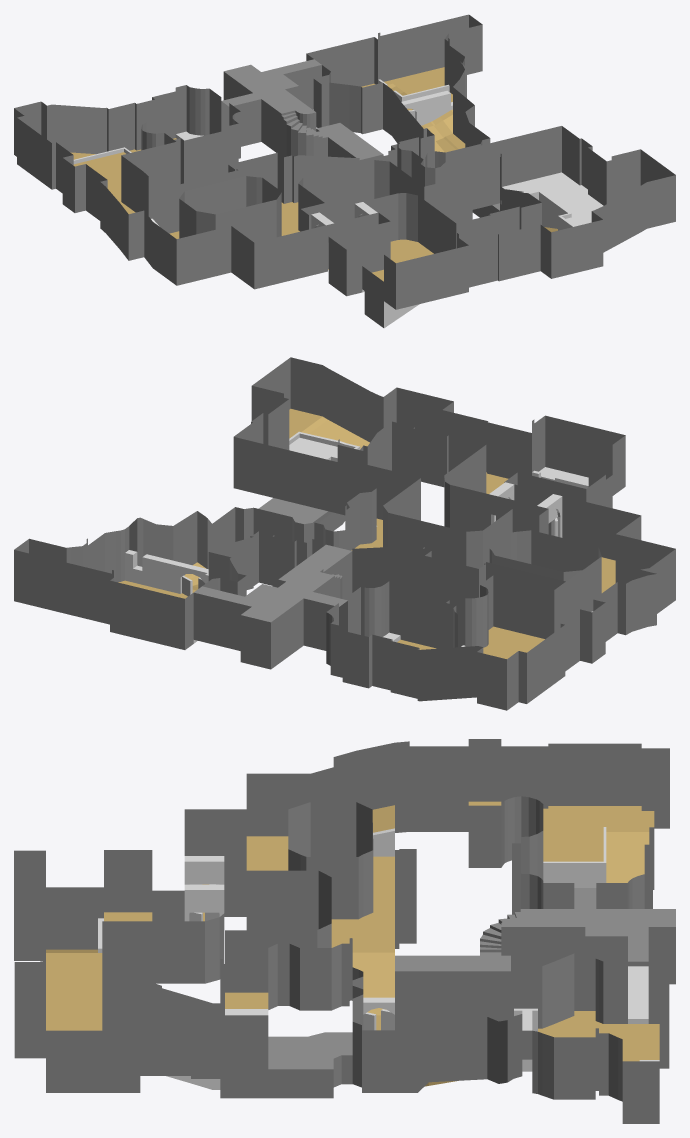
The model's file is Map1.fbx.
3 renders of one model, top to bottom at view 1: azimuth 30°, elevation 25°; view 2: azimuth 150°, elevation 25°; view 3: azimuth 270°, elevation 25°, orthographic. The views are drawn at different scales.
Parts seen in each view (by area): view 1: Plane.001; view 2: Plane.001; view 3: Plane.001.
Boxes of the visible parts, x1,y1,x2,y2 form: Plane.001: (14,14,675,328); Plane.001: (14,357,675,710); Plane.001: (14,739,675,1123).
Bounding box in the file's own units: 143 × 24.45 × 131.
